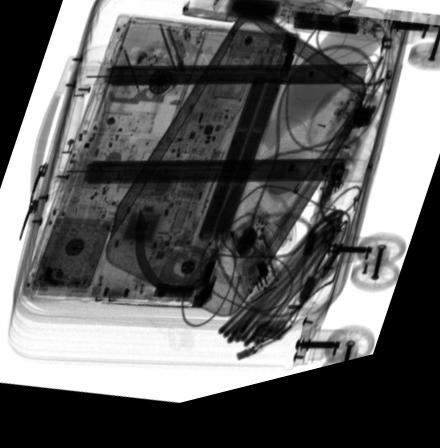Baton: (180, 0, 365, 54)
